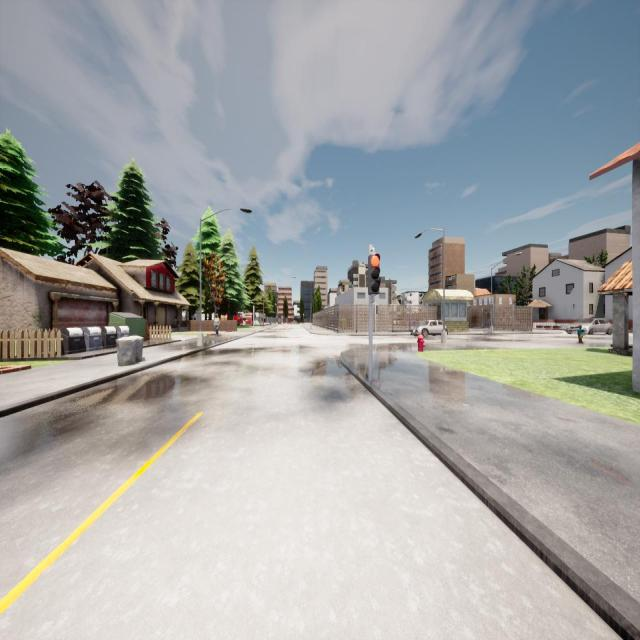Pedestrian: (214, 314, 219, 336), (578, 325, 582, 344)
Vehicle: (566, 318, 612, 334), (410, 320, 448, 336)
traffic_light: (369, 255, 379, 294), (376, 306, 378, 314), (254, 308, 255, 316)
